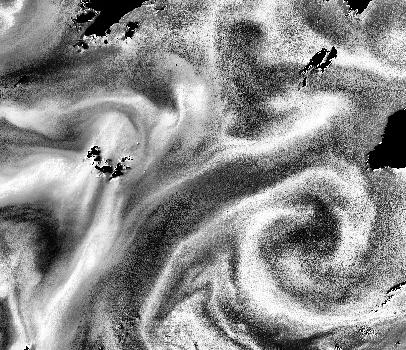AE: (237, 162, 382, 334)
